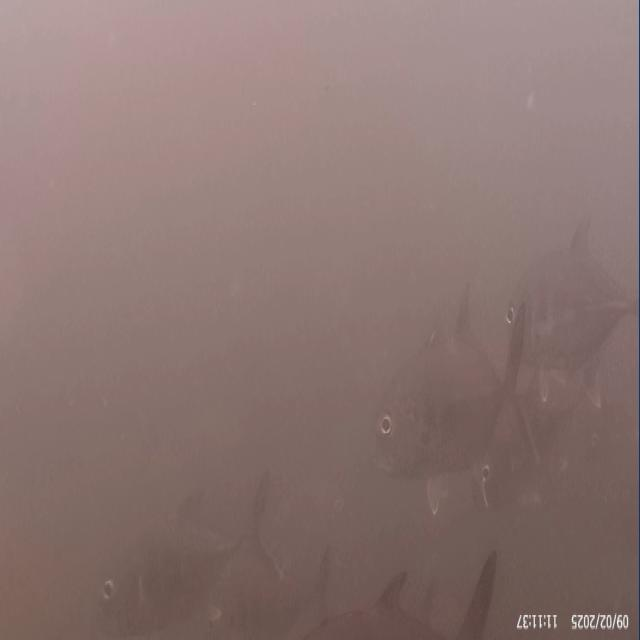ikan: (346, 297, 534, 494), (90, 494, 270, 610)
